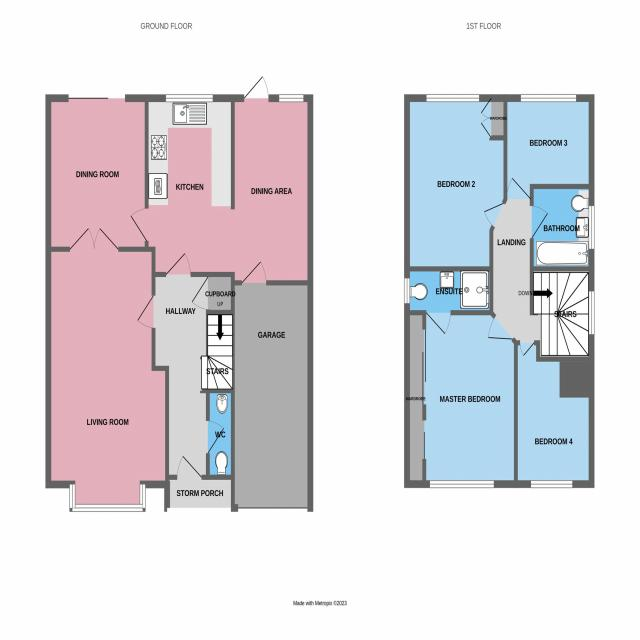DOOR: (487, 313, 515, 341), (424, 309, 452, 336), (243, 74, 270, 102), (240, 259, 267, 286), (129, 206, 149, 242), (530, 204, 550, 239), (136, 294, 156, 329), (206, 419, 225, 454), (506, 176, 532, 201), (176, 455, 202, 480), (165, 252, 191, 277), (483, 202, 506, 229), (518, 340, 535, 358)
DOUBLE DOOR: (68, 226, 120, 252)
ROOM: (45, 226, 170, 512), (404, 310, 518, 488), (404, 94, 508, 271), (45, 93, 149, 253), (513, 340, 595, 489), (503, 94, 595, 201)
SLIDING DOOR: (67, 93, 126, 103)
WINDOW: (69, 483, 146, 513), (429, 479, 495, 489), (520, 93, 577, 103), (425, 93, 480, 103), (165, 94, 214, 103), (530, 479, 573, 489), (588, 205, 595, 250), (278, 94, 305, 103), (404, 278, 410, 304)
